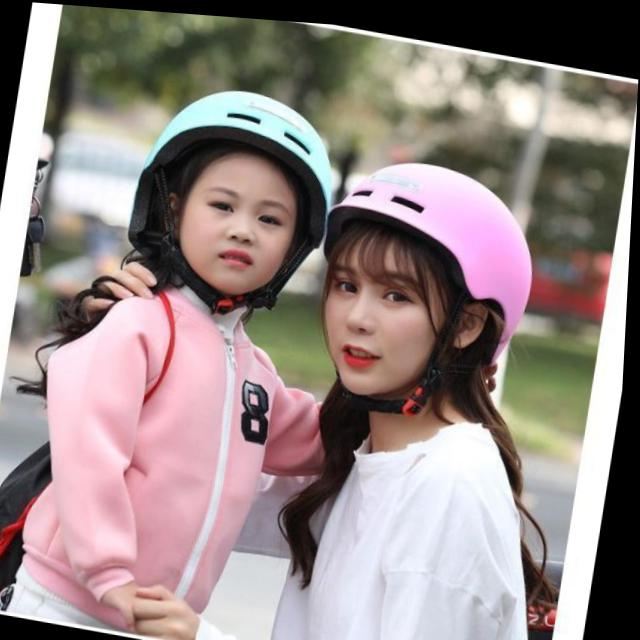helmet: (310, 141, 553, 433), (116, 65, 347, 325)
